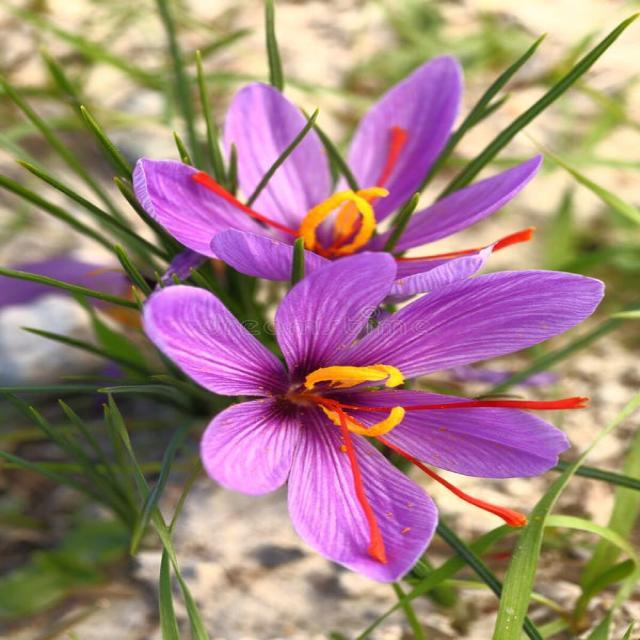Flower: (134, 280, 614, 580), (130, 53, 530, 274)
stigma: (393, 407, 526, 539), (297, 385, 594, 418), (194, 164, 293, 243), (341, 428, 392, 572), (378, 116, 404, 179)
